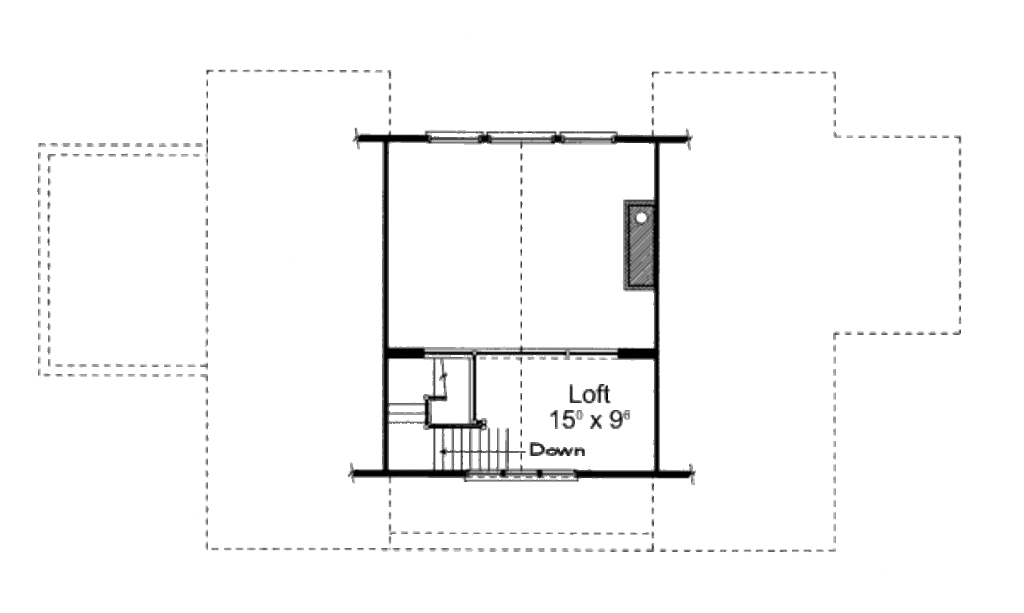stairs: (392, 350, 519, 470)
window: (426, 125, 615, 146), (469, 469, 584, 485)
